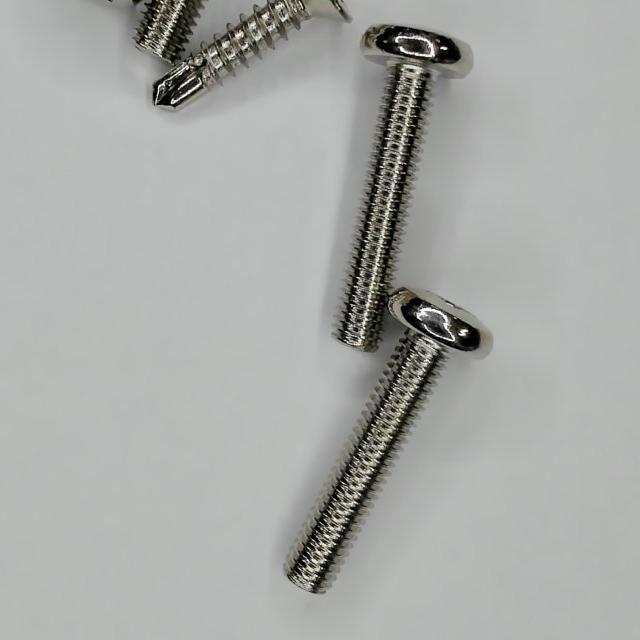Screw: (286, 288, 493, 594), (336, 24, 474, 352), (153, 0, 352, 108), (133, 0, 204, 62)
